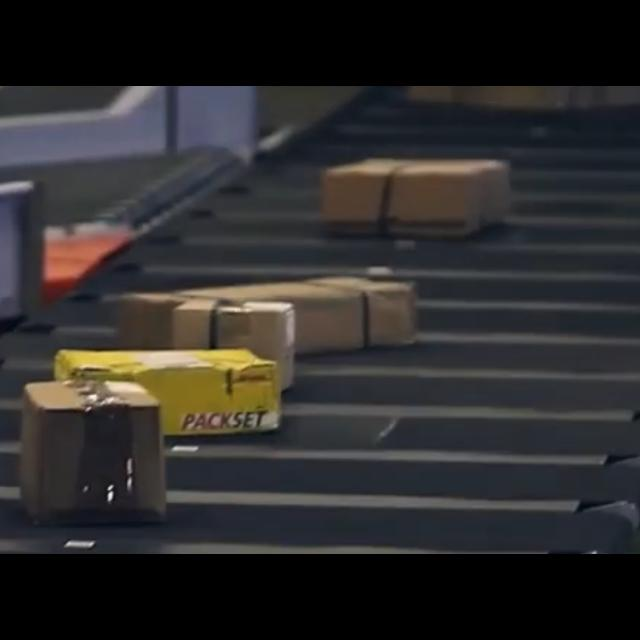box: (116, 279, 420, 355), (18, 381, 168, 524), (54, 349, 282, 437), (321, 158, 509, 242), (172, 298, 298, 396)
